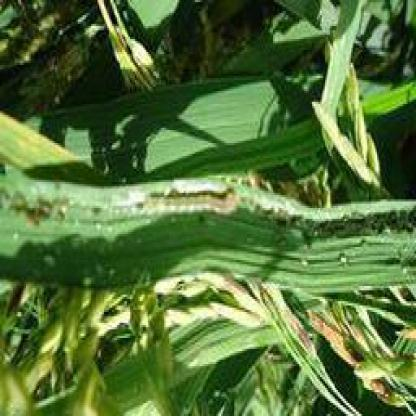leaf-folder: (136, 179, 254, 230)
